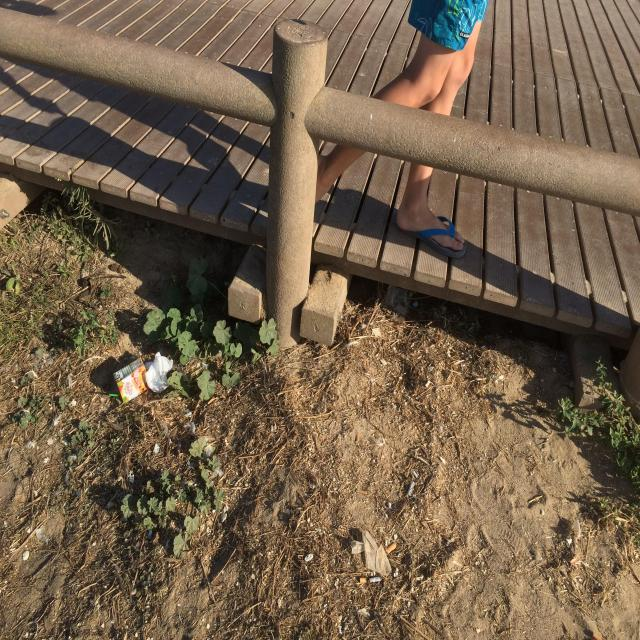Cigarette: (145, 351, 173, 392), (360, 576, 382, 583), (573, 519, 581, 538), (385, 542, 397, 554), (146, 466, 156, 476), (592, 632, 602, 639), (357, 489, 367, 495), (356, 432, 359, 442)
Drink carton: (113, 357, 149, 404)
Plastic film: (407, 480, 414, 496)
Plastic straw: (109, 392, 120, 397)
Unlabeled litter: (351, 530, 392, 575)
